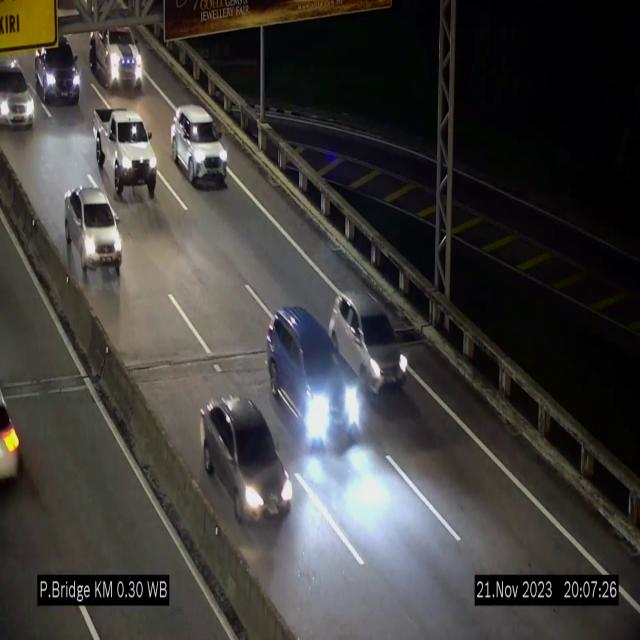Car: (266, 307, 361, 462), (202, 396, 292, 522), (328, 291, 408, 389), (90, 106, 160, 200), (61, 184, 122, 280), (170, 106, 227, 186), (88, 29, 150, 102), (35, 36, 81, 105), (0, 60, 37, 132)
